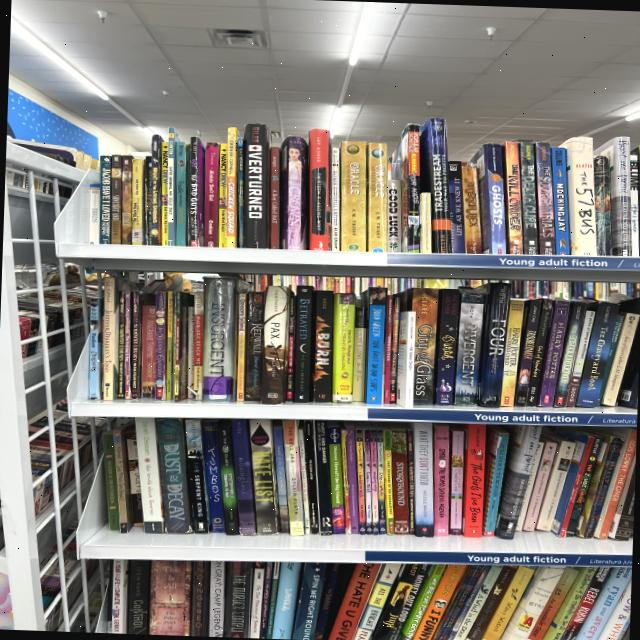book: (489, 421, 542, 541), (501, 559, 566, 640), (593, 430, 640, 541), (572, 560, 637, 640), (418, 117, 455, 255), (575, 300, 621, 410), (548, 432, 594, 540), (372, 556, 431, 640), (327, 557, 382, 640), (469, 143, 509, 256), (411, 560, 467, 640), (542, 561, 598, 640), (430, 561, 486, 640), (562, 436, 606, 536), (480, 563, 536, 640), (477, 282, 511, 408), (203, 277, 237, 401), (562, 137, 597, 257), (466, 561, 519, 640), (396, 559, 447, 640), (352, 558, 402, 640), (157, 418, 192, 535), (560, 563, 613, 640), (534, 438, 576, 533), (452, 563, 503, 640), (133, 416, 166, 535), (600, 311, 640, 408), (551, 301, 587, 408), (248, 419, 280, 536), (445, 565, 494, 640), (510, 298, 543, 408), (408, 288, 439, 405), (453, 293, 485, 406), (537, 299, 570, 407), (261, 285, 290, 405), (524, 298, 555, 407), (182, 418, 211, 534), (244, 124, 271, 248), (280, 136, 309, 250), (563, 309, 596, 409), (478, 431, 509, 537), (230, 418, 258, 535), (200, 419, 227, 533), (433, 288, 459, 405), (149, 561, 191, 633), (215, 421, 241, 536), (340, 142, 367, 251), (281, 419, 306, 536), (515, 440, 546, 532), (291, 561, 327, 640), (499, 299, 525, 407), (609, 137, 632, 256), (292, 285, 315, 403), (462, 424, 486, 537), (311, 291, 335, 402), (332, 293, 356, 403), (400, 124, 420, 253), (309, 129, 330, 251), (534, 142, 556, 256), (502, 142, 524, 254), (271, 561, 302, 640), (300, 420, 321, 535), (110, 428, 133, 533), (413, 423, 434, 537), (223, 561, 254, 638), (244, 291, 265, 401), (313, 420, 333, 535), (171, 292, 192, 401), (550, 147, 571, 256), (366, 143, 387, 252), (340, 427, 361, 535), (519, 141, 539, 254), (595, 581, 633, 640), (327, 426, 346, 534), (395, 311, 416, 408), (446, 428, 465, 535), (101, 431, 121, 532), (102, 277, 118, 400), (272, 425, 290, 534), (124, 428, 144, 526), (295, 421, 312, 534), (593, 156, 612, 255), (147, 135, 164, 245), (461, 165, 482, 254), (126, 561, 151, 634), (327, 146, 344, 251), (447, 161, 466, 254), (190, 291, 206, 400), (188, 137, 204, 246), (174, 141, 190, 246), (434, 426, 449, 535), (139, 305, 156, 399), (204, 142, 219, 247), (225, 127, 238, 247), (381, 295, 395, 404), (190, 561, 210, 636), (352, 303, 367, 401), (129, 159, 146, 244), (208, 561, 227, 637), (284, 291, 297, 402), (192, 137, 205, 246), (388, 294, 401, 403), (166, 128, 178, 245), (368, 429, 381, 535), (375, 430, 388, 534), (387, 164, 402, 252), (258, 562, 275, 639), (89, 299, 102, 399), (164, 292, 176, 400), (155, 292, 167, 400), (355, 429, 367, 534), (111, 559, 128, 633), (383, 430, 395, 534), (362, 430, 374, 534), (216, 144, 228, 247), (265, 562, 281, 639), (268, 148, 280, 249), (130, 291, 141, 399), (416, 192, 435, 254), (341, 428, 352, 534), (122, 291, 132, 399), (99, 156, 111, 244), (110, 156, 122, 244), (407, 429, 416, 533), (160, 141, 169, 245), (237, 137, 244, 248), (144, 155, 152, 245), (638, 180, 639, 232)
